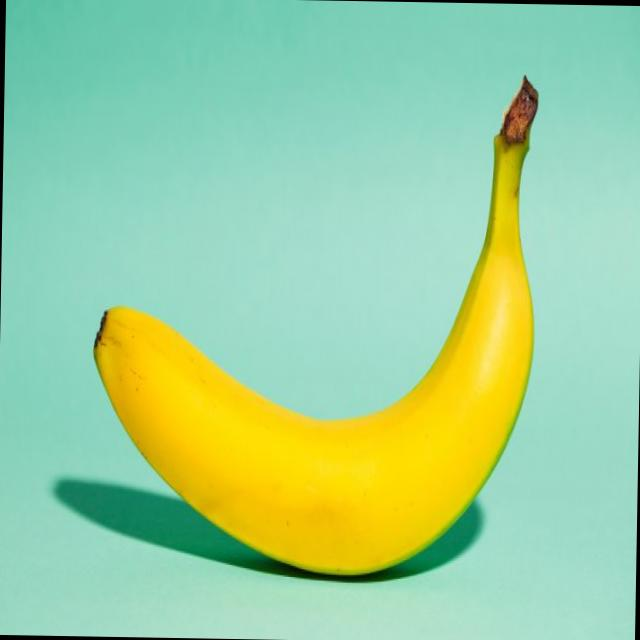banana: (72, 70, 546, 640)
